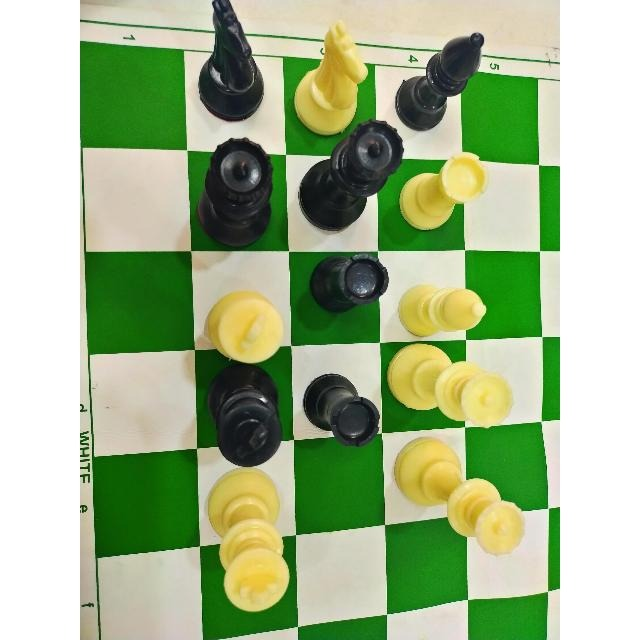black-bishop: (390, 30, 486, 133)
black-king: (207, 363, 288, 472)
black-knight: (196, 0, 271, 131)
black-queen: (294, 113, 402, 234), (191, 132, 275, 250)
black-rook: (296, 358, 387, 449), (311, 249, 389, 339)
white-bishop: (400, 271, 502, 345)
white-king: (200, 463, 295, 612), (200, 288, 284, 372)
white-knight: (291, 19, 371, 138)
white-queen: (387, 430, 528, 562), (383, 341, 517, 433)
white-rook: (399, 144, 495, 244)
